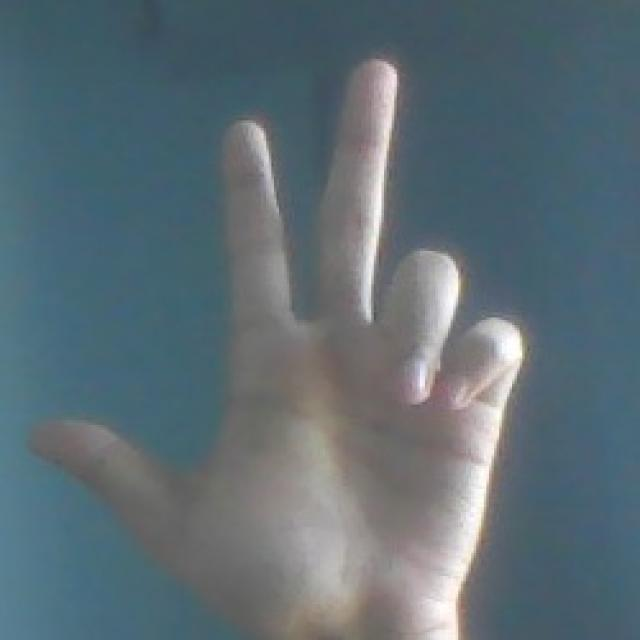Numeric-3: (26, 53, 518, 633)
